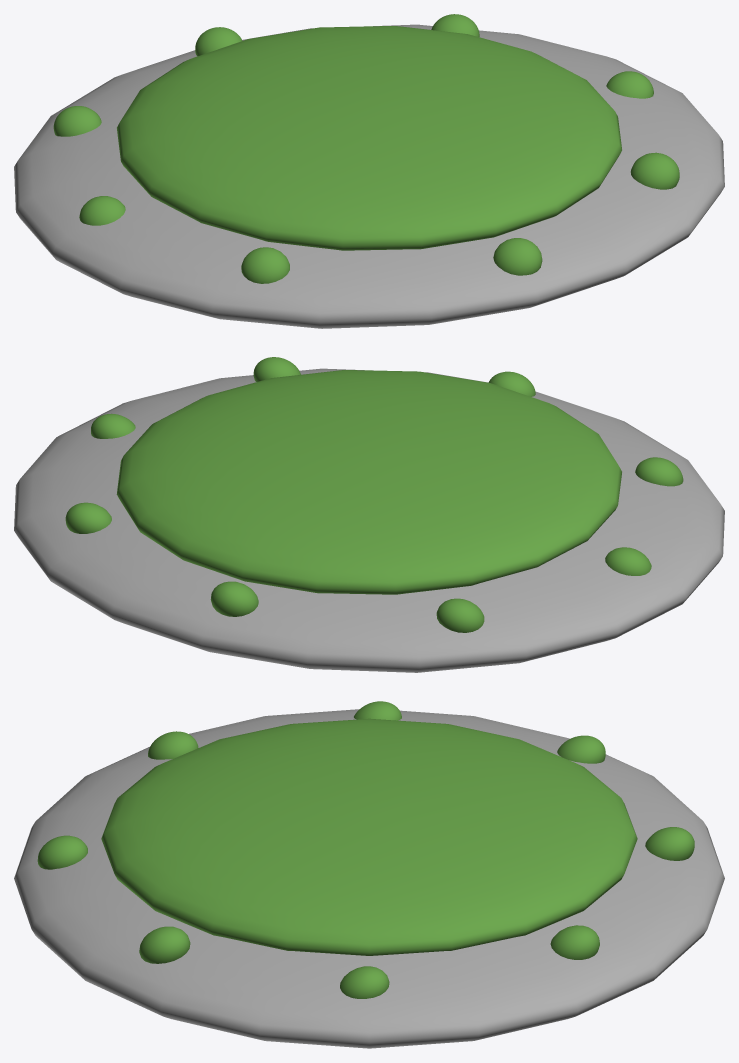
Rendered from teleporter with battery.fbx.
The picture shows the model from 3 angles, top to bottom: view 1: azimuth 30°, elevation 25°; view 2: azimuth 150°, elevation 25°; view 3: azimuth 270°, elevation 25°; orthographic projection. The views are drawn at different scales.
Visible parts, largest first — view 1: nurbsSphere4; view 2: nurbsSphere4; view 3: nurbsSphere4.
Part boxes in pixels (x1,y1,x2,y2): nurbsSphere4: (14,14,724,328); nurbsSphere4: (14,357,724,672); nurbsSphere4: (14,701,724,1048).
Bounding box in the file's own units: 5.12 × 0.9325 × 4.71.
